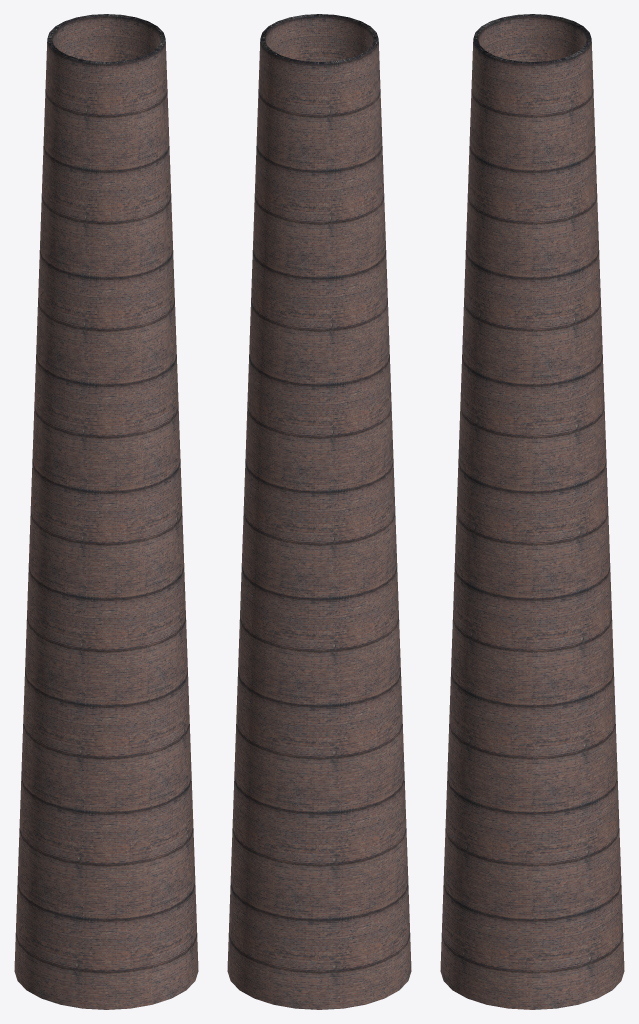
Rendered from schornstein_01.fbx.
3 renders of one model, left to right at view 1: azimuth 30°, elevation 25°; view 2: azimuth 150°, elevation 25°; view 3: azimuth 270°, elevation 25°, orthographic.
Parts seen in each view (by area): view 1: Mesh; view 2: Mesh; view 3: Mesh.
Part boxes in pixels (<box>): Mesh: <box>14,14,198,1009</box>; Mesh: <box>227,14,411,1009</box>; Mesh: <box>440,14,624,1009</box>.
Bounding box in the file's own units: 1323 × 7395 × 1323.
